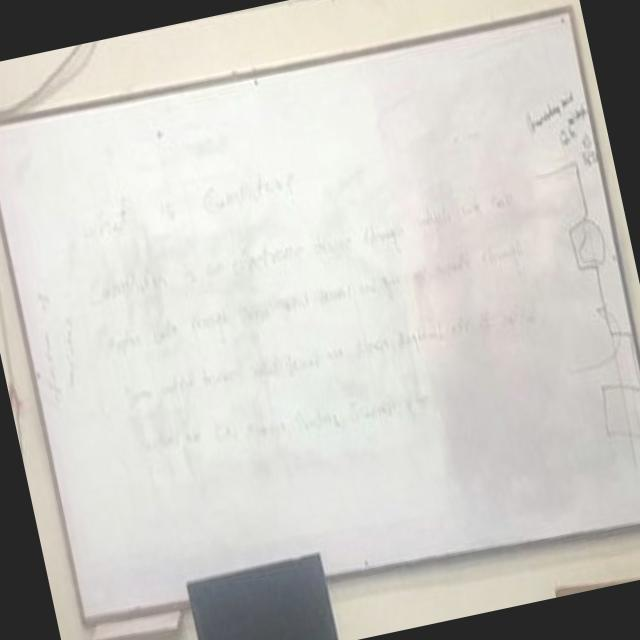White-board: (0, 6, 640, 618)
